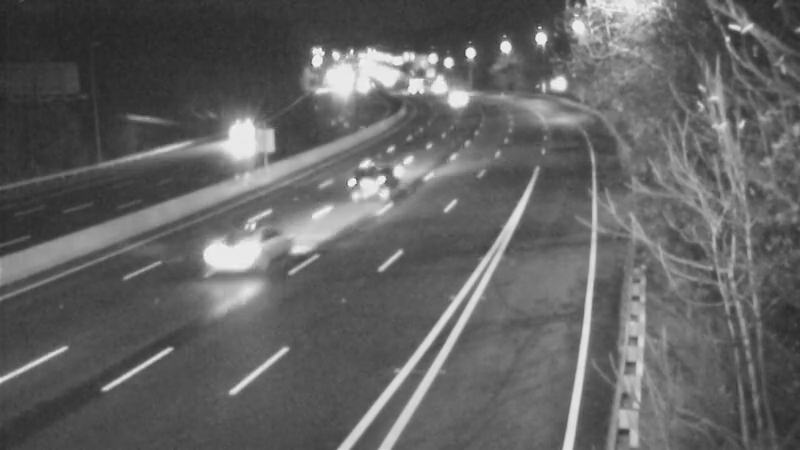vehicle: (330, 136, 410, 216), (189, 215, 269, 295), (390, 59, 440, 109), (433, 75, 483, 125), (228, 112, 278, 162)
